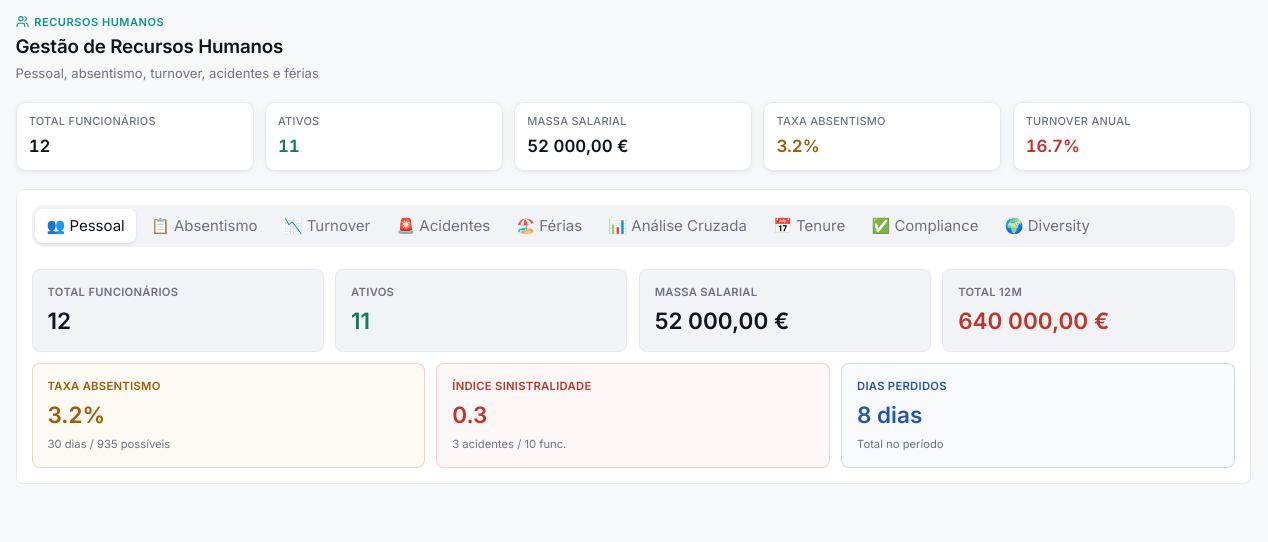
Scenario: HRPage › switches to the Absentismo tab
Step 1. Click the button "📋 Absentismo" → (204, 226), box [140,209,269,243]
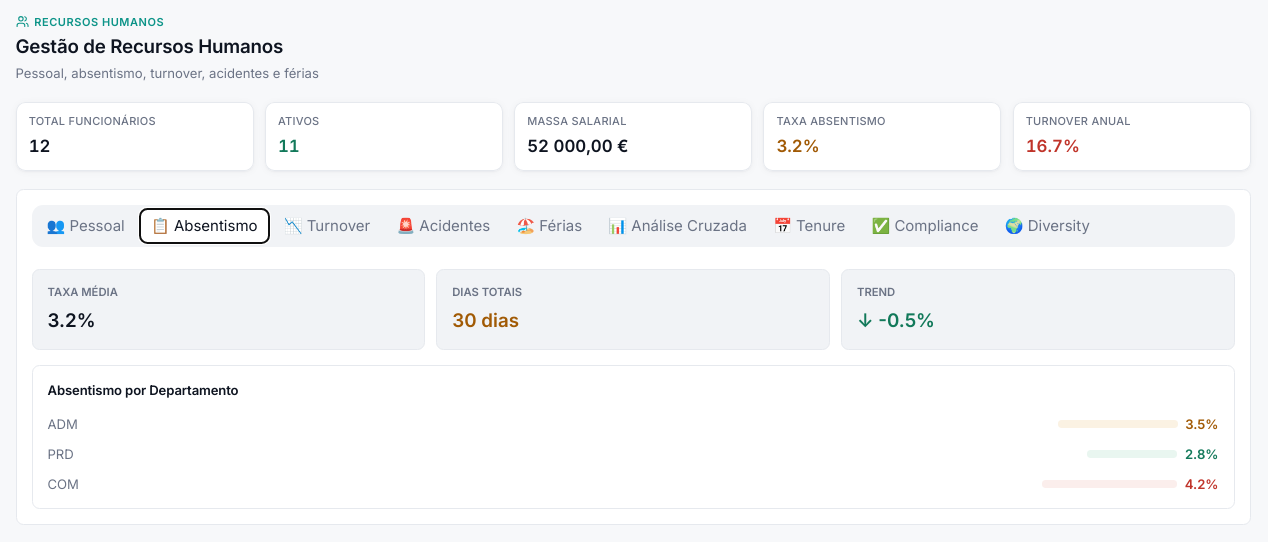
Expected: the heading "Absentismo por Departamento" is shown, [48,382,238,398]
Expected: the text "Taxa Média" is shown, [48,285,118,299]
